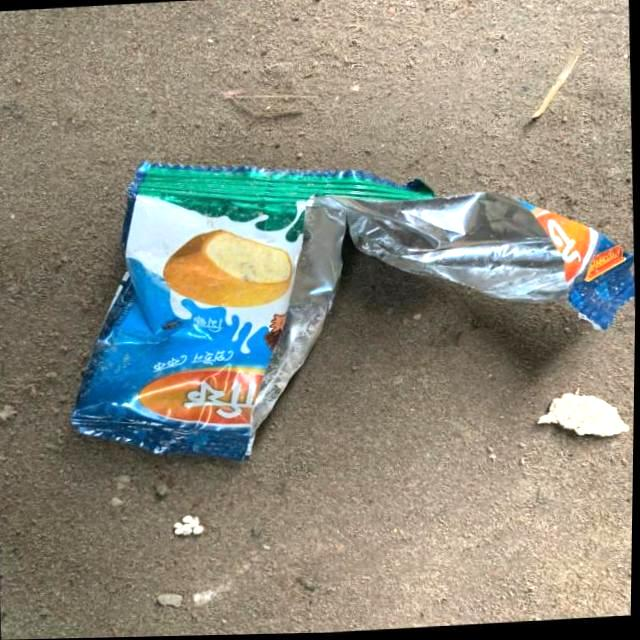packet: (71, 153, 369, 490)
